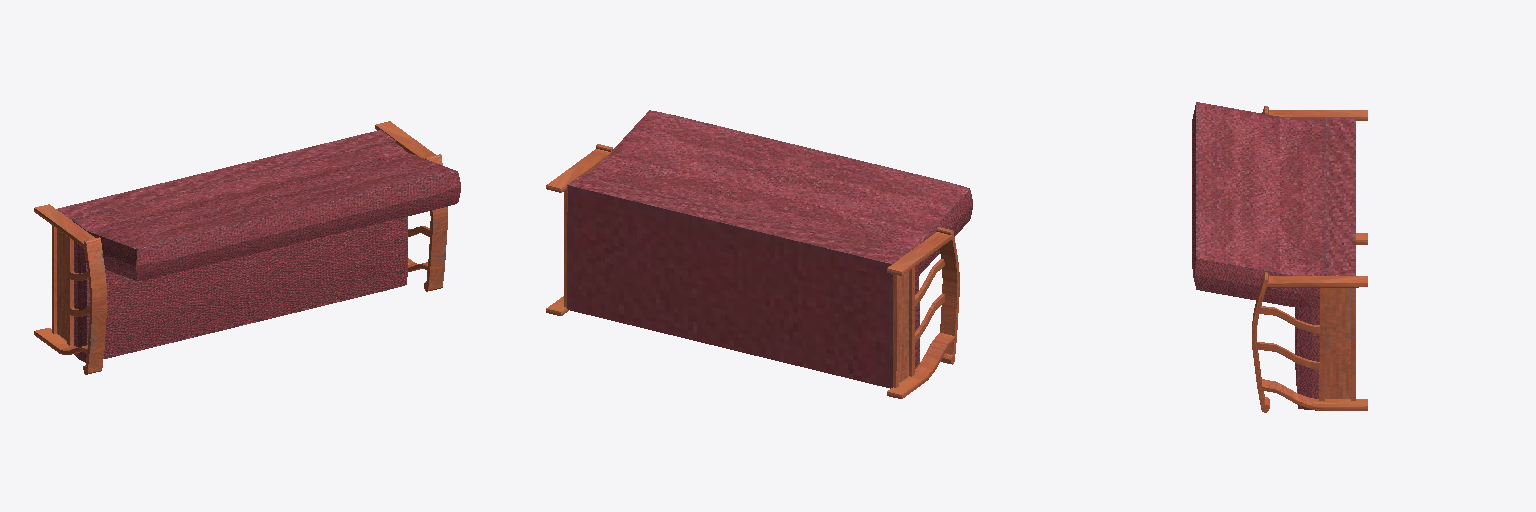
3 views of the same model, side by side, from view 1: azimuth 30°, elevation 25°; view 2: azimuth 150°, elevation 25°; view 3: azimuth 270°, elevation 25° (orthographic).
Parts seen in each view (by area): view 1: Cube_Cube.029; view 2: Cube_Cube.029; view 3: Cube_Cube.029.
Part boxes in pixels (x1,y1,x2,y2): Cube_Cube.029: (34,121,460,374); Cube_Cube.029: (546,110,972,398); Cube_Cube.029: (1192,102,1367,412).
Bounding box in the file's own units: 10.14 × 4.19 × 4.34.
Materials: 1 (1 with a texture image).